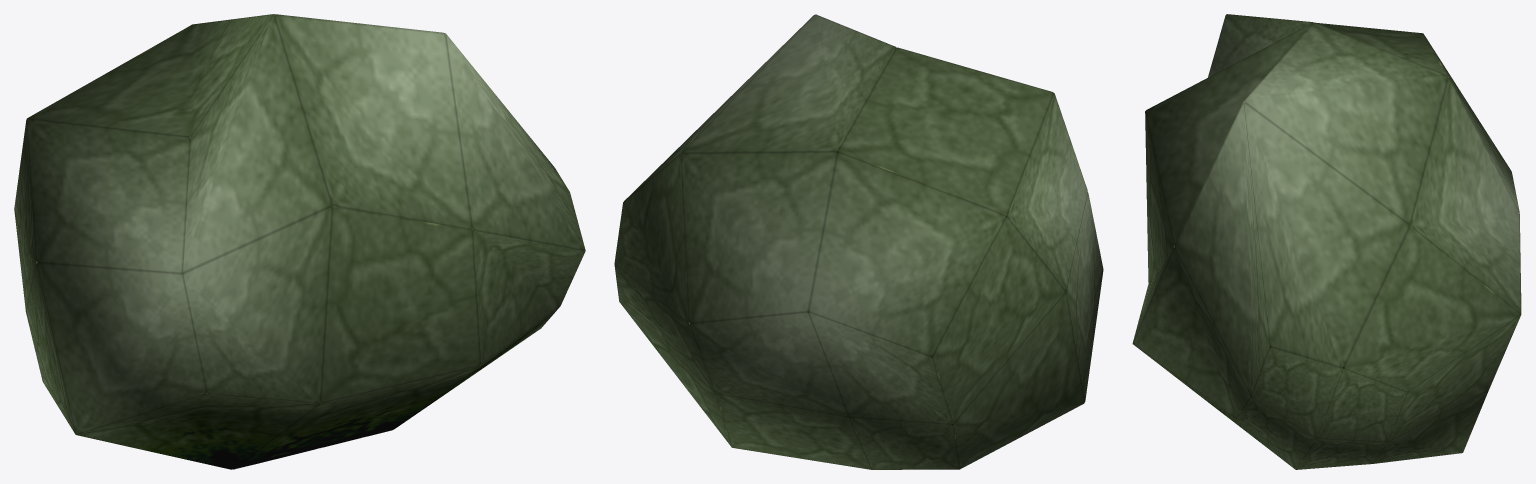
The picture shows the model from 3 angles, left to right: view 1: azimuth 30°, elevation 25°; view 2: azimuth 150°, elevation 25°; view 3: azimuth 270°, elevation 25°; orthographic projection. The views are drawn at different scales.
Parts seen in each view (by area): view 1: T1L8M005_40; view 2: T1L8M005_40; view 3: T1L8M005_40.
Part boxes in pixels (bbox=[...]): T1L8M005_40: bbox=[14, 14, 585, 469]; T1L8M005_40: bbox=[614, 14, 1103, 469]; T1L8M005_40: bbox=[1132, 14, 1521, 469].
Size of the model in its own units: 1.26 by 0.9834 by 0.9023.
